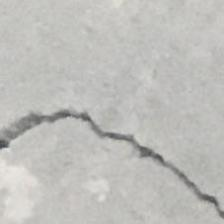Crack: (0, 96, 224, 224)
